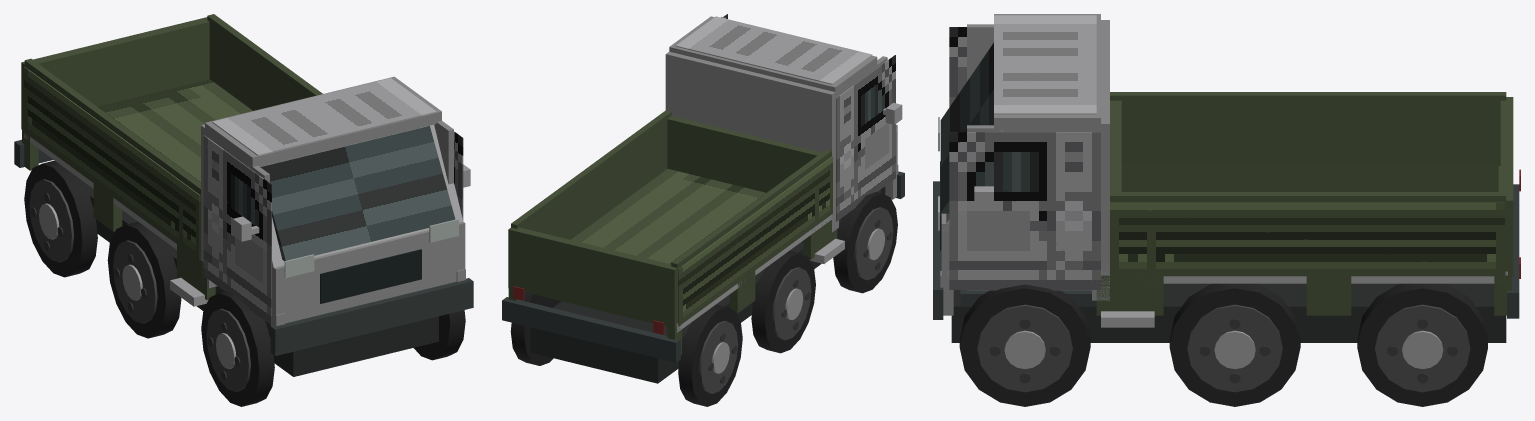
The model's file is CMU3DRMCPropVehicleSmallTruckGreenF.glb.
3 renders of one model, left to right at view 1: azimuth 30°, elevation 25°; view 2: azimuth 150°, elevation 25°; view 3: azimuth 270°, elevation 25°, orthographic. The views are drawn at different scales.
Parts seen in each view (by area): view 1: continuous sloped windshield, original cargo side -1, tailgate, original cab door -1, original cab roof, cab lower front, original recessed bed floor, front bumper, ladder chassis, cargo side board 1, tire 3 -1, tire 2 -1 (+24 smaller); view 2: cab rear wall, tailgate, original recessed bed floor, original cargo side -1, original cab door -1, bed front board, original cab roof, cargo side board 1, ladder chassis, rear bumper, tire 2 -1, tire 3 -1 (+16 smaller); view 3: original cargo side 1, cargo side board -1, original cab door 1, original recessed bed floor, original cab roof, ladder chassis, tire 2 1, tire 3 1, tire 1 1, rim 1 1, rim 2 1, rim 3 1 (+22 smaller).
Boxes of the visible parts, x1=… form: continuous sloped windshield: x1=260, y1=126, x2=455, y2=261; original cargo side -1: x1=24, y1=66, x2=200, y2=260; tailgate: x1=21, y1=17, x2=209, y2=130; original cab door -1: x1=203, y1=135, x2=271, y2=325; original cab roof: x1=212, y1=78, x2=436, y2=155; cab lower front: x1=272, y1=221, x2=465, y2=323; original recessed bed floor: x1=97, y1=79, x2=252, y2=182; front bumper: x1=270, y1=278, x2=473, y2=355; ladder chassis: x1=82, y1=181, x2=438, y2=376; cargo side board 1: x1=209, y1=22, x2=311, y2=110; tire 3 -1: x1=24, y1=160, x2=97, y2=277; tire 2 -1: x1=107, y1=221, x2=181, y2=338; cab rear wall: x1=665, y1=51, x2=838, y2=232; tailgate: x1=508, y1=227, x2=679, y2=328; original recessed bed floor: x1=571, y1=169, x2=765, y2=264; original cargo side -1: x1=678, y1=156, x2=832, y2=326; original cab door -1: x1=836, y1=55, x2=895, y2=221; bed front board: x1=667, y1=116, x2=831, y2=192; original cab roof: x1=675, y1=16, x2=872, y2=84; cargo side board 1: x1=520, y1=119, x2=667, y2=239; ladder chassis: x1=530, y1=228, x2=838, y2=383; rear bumper: x1=502, y1=297, x2=680, y2=362; tire 2 -1: x1=751, y1=251, x2=815, y2=353; tire 3 -1: x1=678, y1=304, x2=742, y2=406; original cargo side 1: x1=1110, y1=202, x2=1504, y2=276; cargo side board -1: x1=1121, y1=101, x2=1500, y2=165; original cab door 1: x1=949, y1=132, x2=1100, y2=289; original recessed bed floor: x1=1121, y1=164, x2=1498, y2=191; original cab roof: x1=994, y1=15, x2=1096, y2=114; ladder chassis: x1=951, y1=283, x2=1506, y2=342; tire 2 1: x1=1169, y1=283, x2=1300, y2=406; tire 3 1: x1=1357, y1=283, x2=1487, y2=406; tire 1 1: x1=959, y1=284, x2=1090, y2=406; rim 1 1: x1=977, y1=304, x2=1072, y2=392; rim 2 1: x1=1187, y1=304, x2=1282, y2=392; rim 3 1: x1=1375, y1=304, x2=1470, y2=392.
Size of the model in its own units: 1.04 by 1.1 by 2.06.
23 materials, 5 textured.
